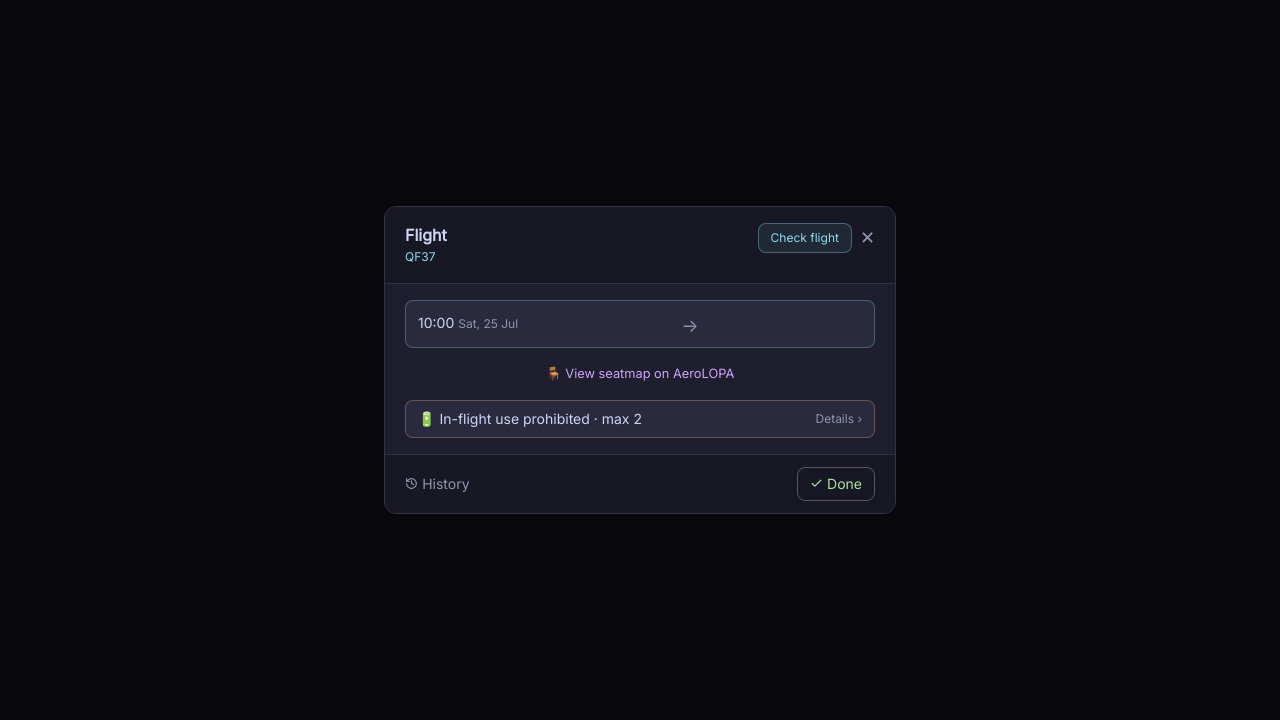
Test case: FlightDetailModal — check results for a minimally-populated flight › does not claim "All match" when unfilled fields have live data available
The width and height of the screenshot is (1280, 720).
Click the button "Check flight" at (805, 238), box x1=758 y1=223 x2=852 y2=253
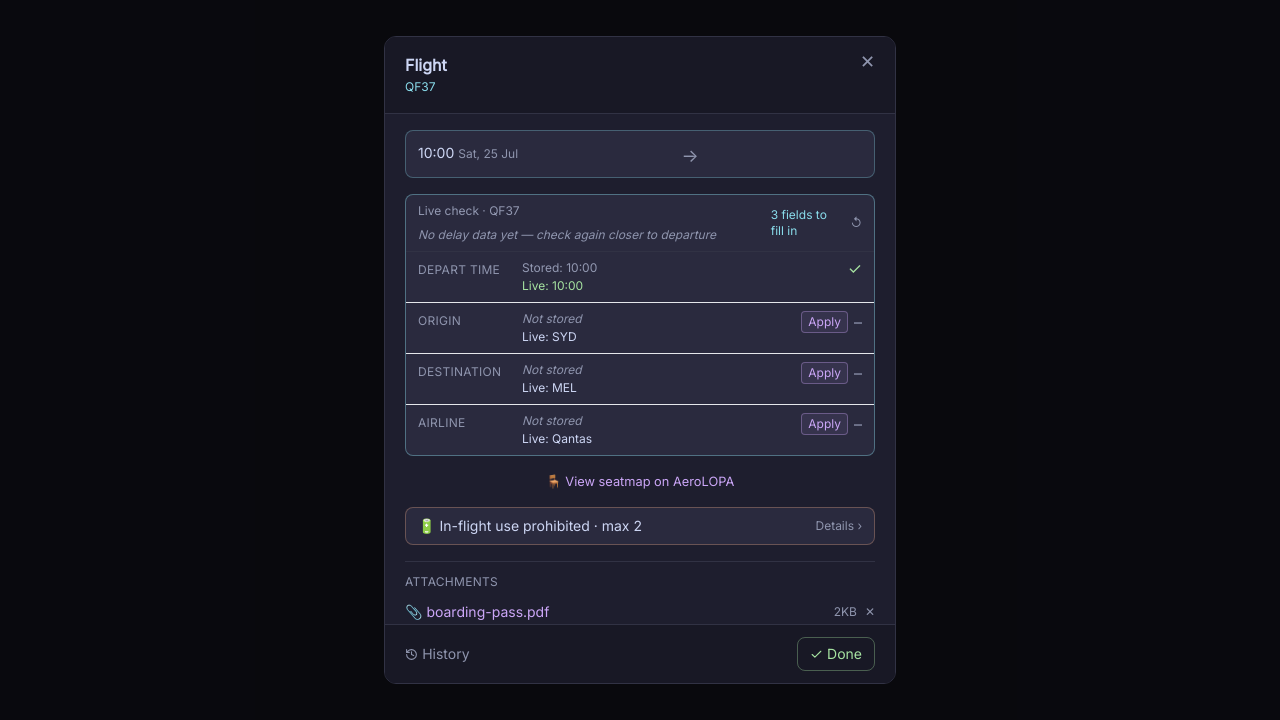
Check: the text "Live check · QF37" is shown, box x1=418 y1=203 x2=520 y2=219
Check: the text "3 fields to fill in" is shown, box x1=771 y1=207 x2=827 y2=238
